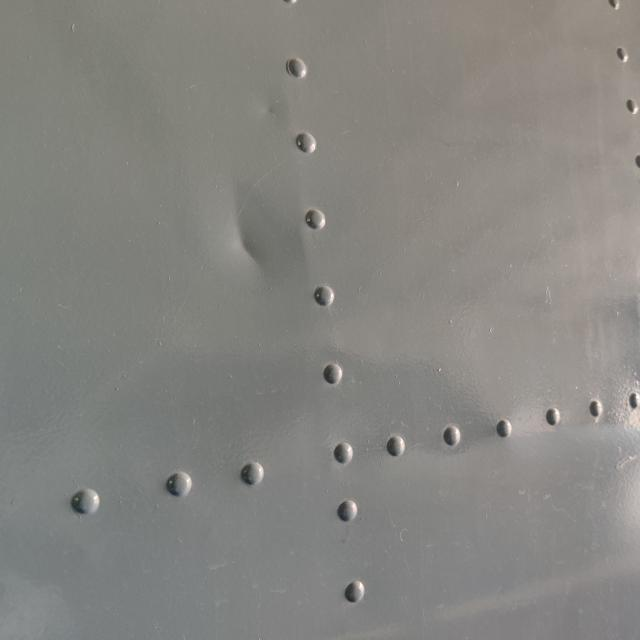Dent: (206, 178, 283, 295)
